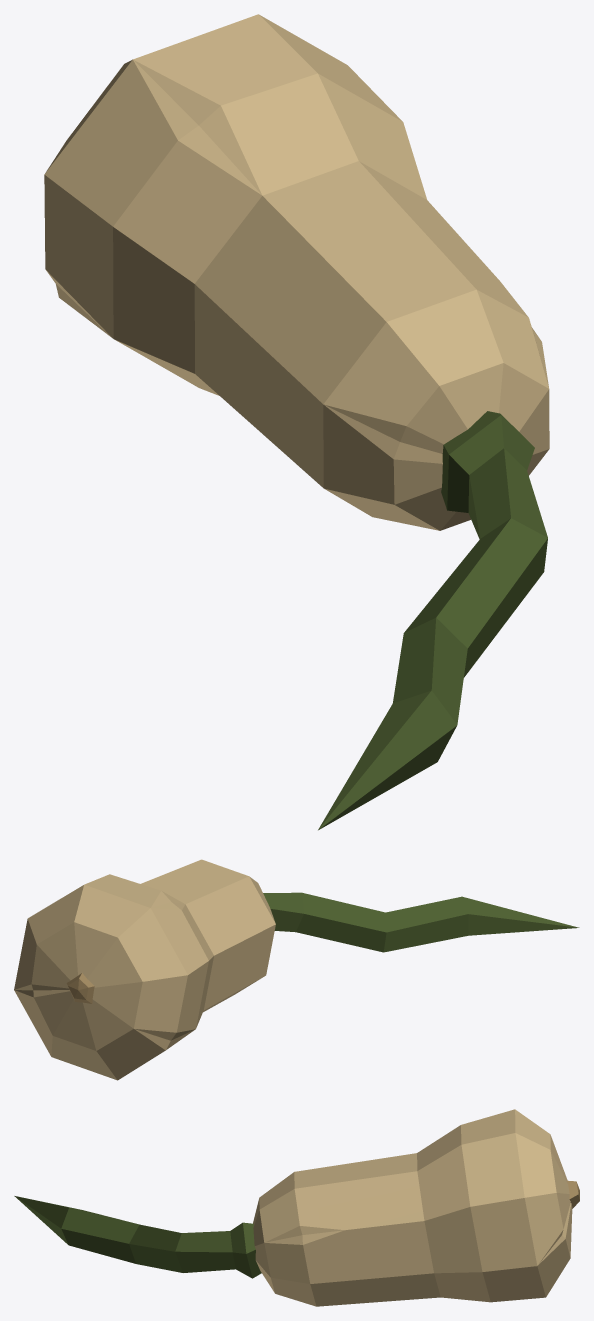
The model's file is squash_plant.glb.
The picture shows the model from 3 angles, top to bottom: view 1: azimuth 30°, elevation 25°; view 2: azimuth 150°, elevation 25°; view 3: azimuth 270°, elevation 25°; orthographic projection. The views are drawn at different scales.
Parts seen in each view (by area): view 1: SM_Prop_Squash_Butternut_01_L; view 2: SM_Prop_Squash_Butternut_01_L; view 3: SM_Prop_Squash_Butternut_01_L.
Part boxes in pixels (x1,y1,x2,y2): SM_Prop_Squash_Butternut_01_L: (44, 14, 549, 830); SM_Prop_Squash_Butternut_01_L: (14, 859, 579, 1080); SM_Prop_Squash_Butternut_01_L: (14, 1109, 579, 1306).
Bounding box in the file's own units: 0.4563 × 0.2794 × 0.8061.
Materials: 1 (1 with a texture image).
